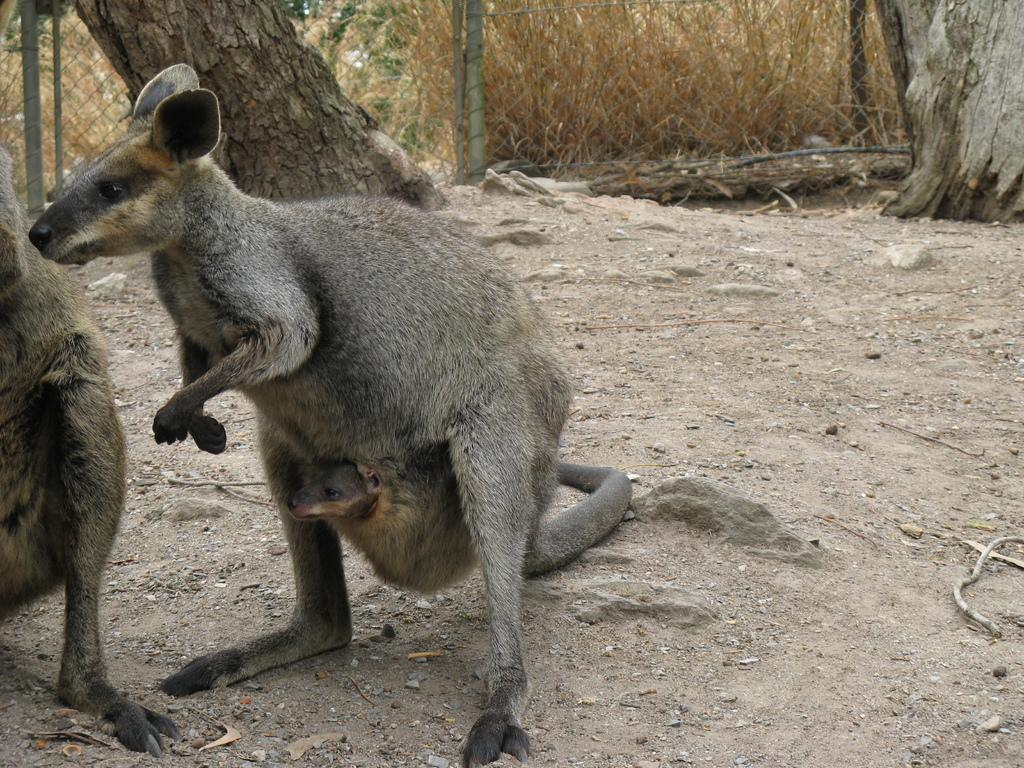kangaroo: (30, 62, 634, 767), (0, 140, 187, 760)
